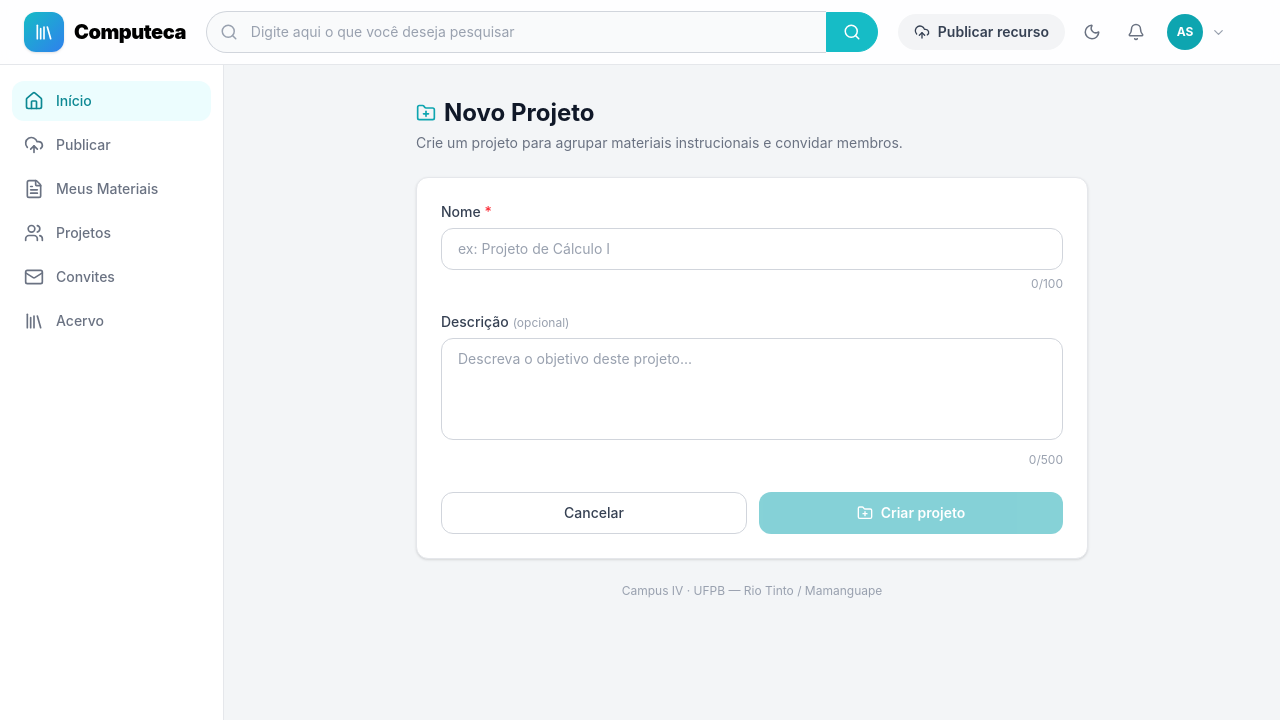
CreateOrganizationPage › valida nome com menos de 2 caracteres
Type "A" into the field labelled "Nome *".
click(752, 249); type("A")  # box [441,228,1063,270]
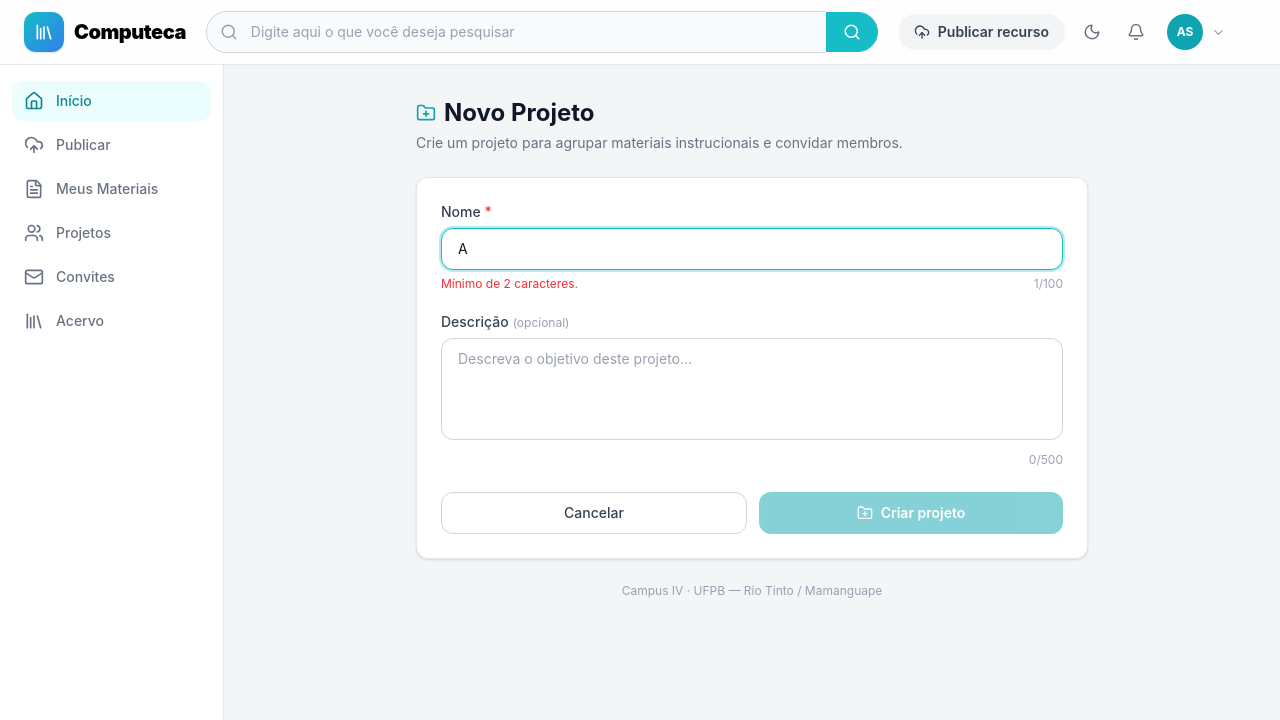
Result: the text "Mínimo de 2 caracteres." is shown at [441,276,578,292]
